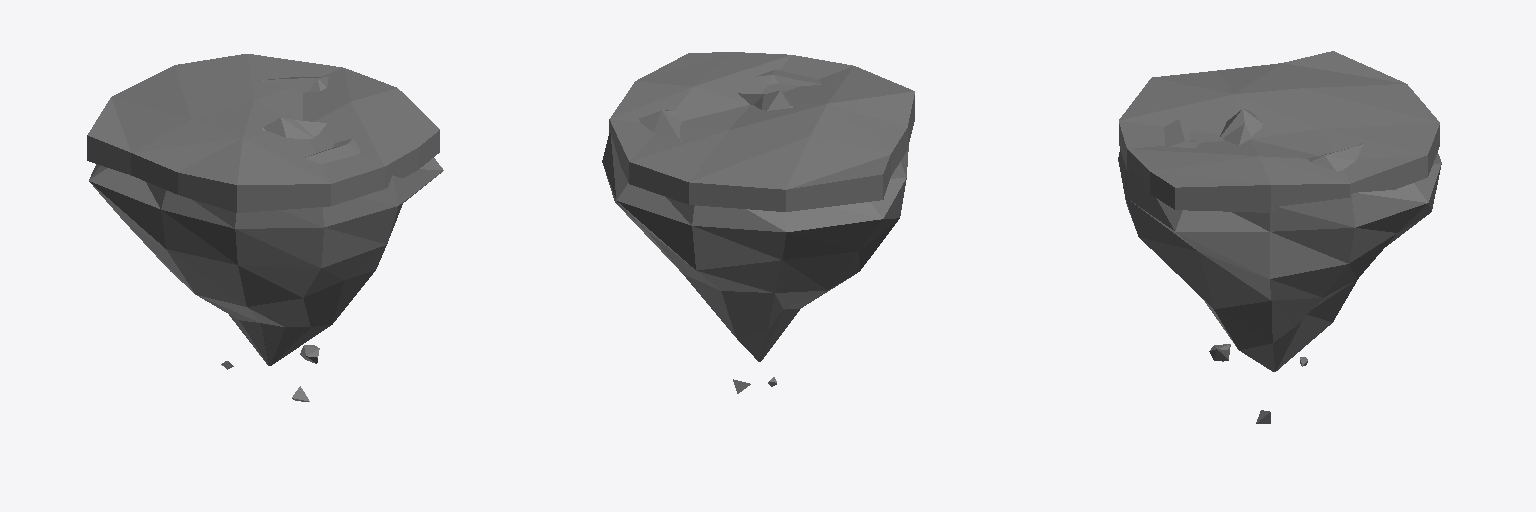
The model's file is islaPrueba2.obj.
3 views of the same model, side by side, from view 1: azimuth 30°, elevation 25°; view 2: azimuth 150°, elevation 25°; view 3: azimuth 270°, elevation 25° (orthographic).
Parts seen in each view (by area): view 1: Green_platform, Island; view 2: Green_platform, Island; view 3: Green_platform, Island.
Part boxes in pixels (x1,y1,x2,y2): Green_platform: (87,54,439,212); Island: (89,77,443,401); Green_platform: (609,52,914,211); Island: (602,70,908,393); Green_platform: (1119,51,1439,212); Island: (1118,109,1441,423).
Bounding box in the file's own units: 105 × 107 × 104.